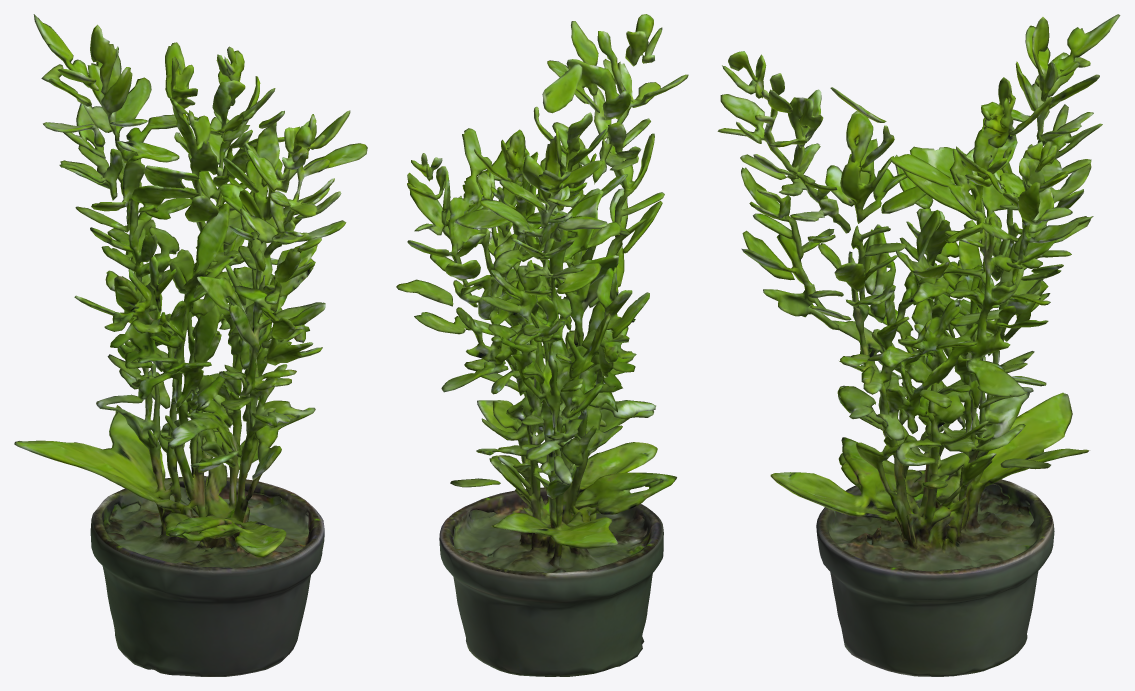
File: Potted_Green_Plant_0827131430 (2).glb
The picture shows the model from 3 angles, left to right: view 1: azimuth 30°, elevation 25°; view 2: azimuth 150°, elevation 25°; view 3: azimuth 270°, elevation 25°; orthographic projection. The views are drawn at different scales.
Bounding box in the file's own units: 0.8574 × 2.03 × 1.24.
Materials: 1 (1 with a texture image).
